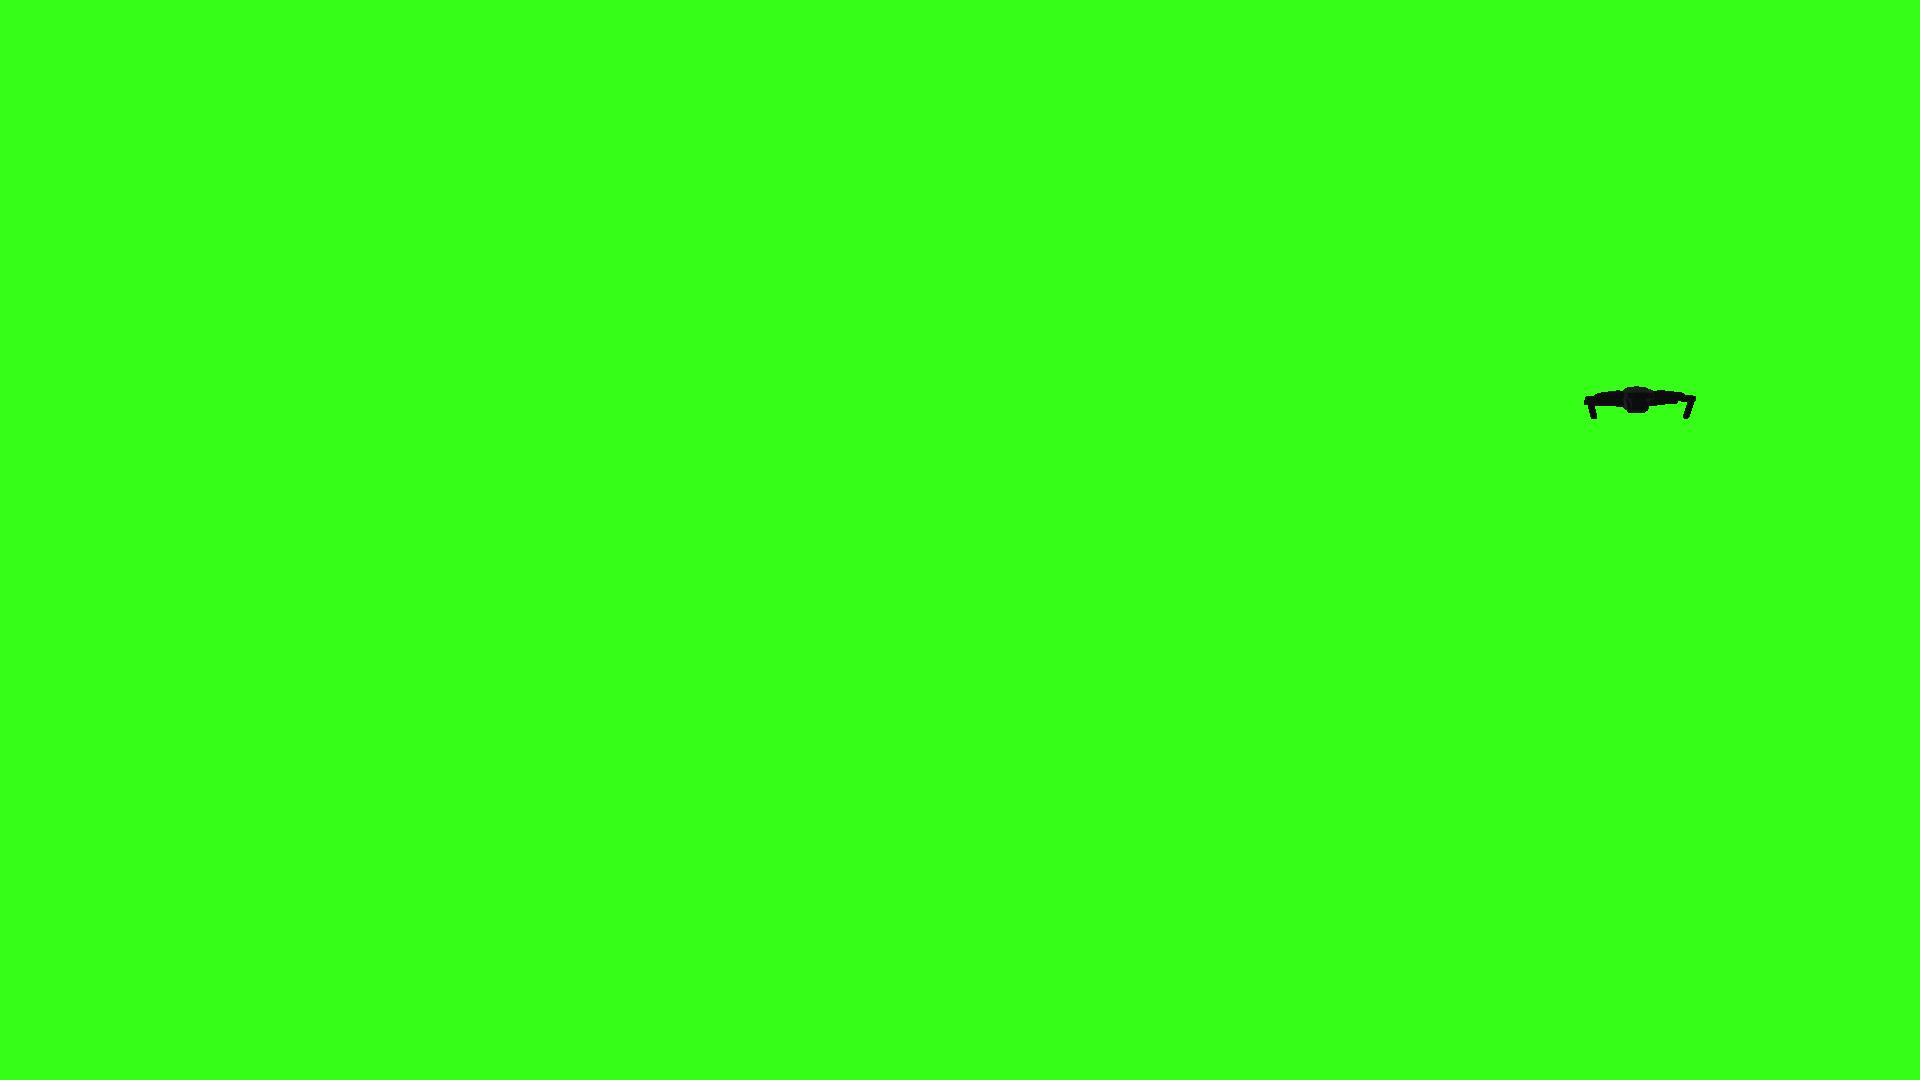color: (1617, 389, 1655, 410)
